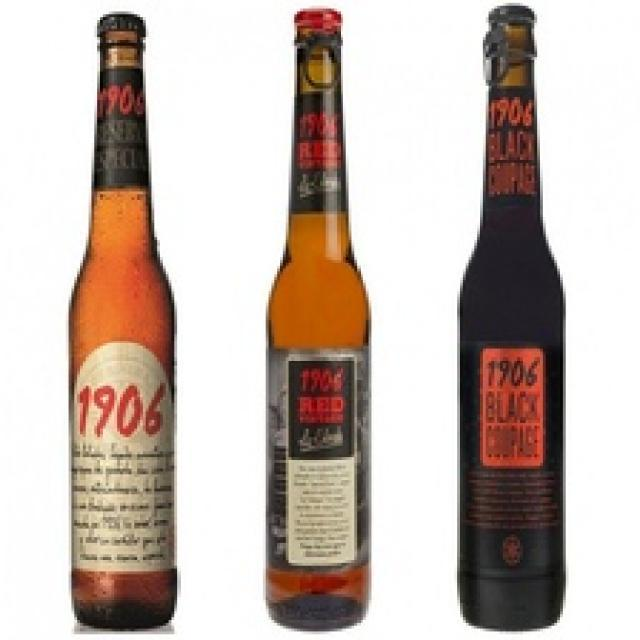garbage: (42, 15, 633, 634)
